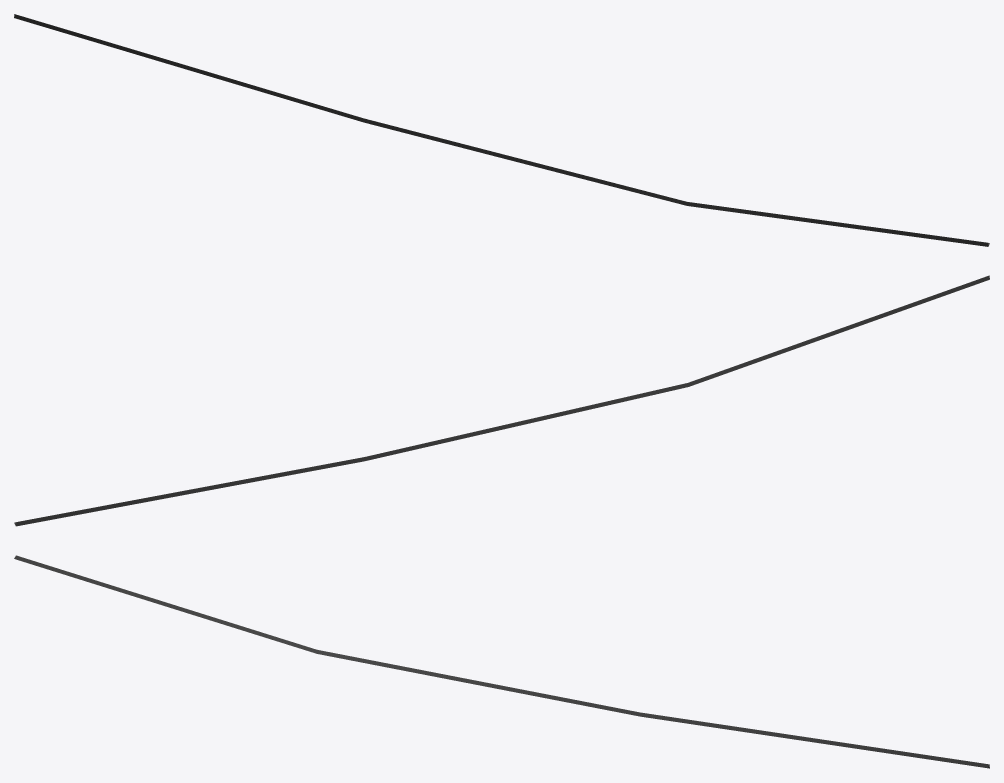
Rendered from LanternLine_02.FBX.
3 views of the same model, one above another, from view 1: azimuth 90°, elevation 25°; view 2: azimuth 150°, elevation 25°; view 3: azimuth 270°, elevation 25° (orthographic). The views are drawn at different scales.
Visible parts, largest first — view 1: LanternLine_02; view 2: LanternLine_02; view 3: LanternLine_02.
Boxes of the visible parts, <box> form: LanternLine_02: <box>14,14,989,246</box>; LanternLine_02: <box>14,275,989,526</box>; LanternLine_02: <box>14,555,989,768</box>.
Bounding box in the file's own units: 198 × 17.01 × 370.
Materials: 1 (1 with a texture image).
